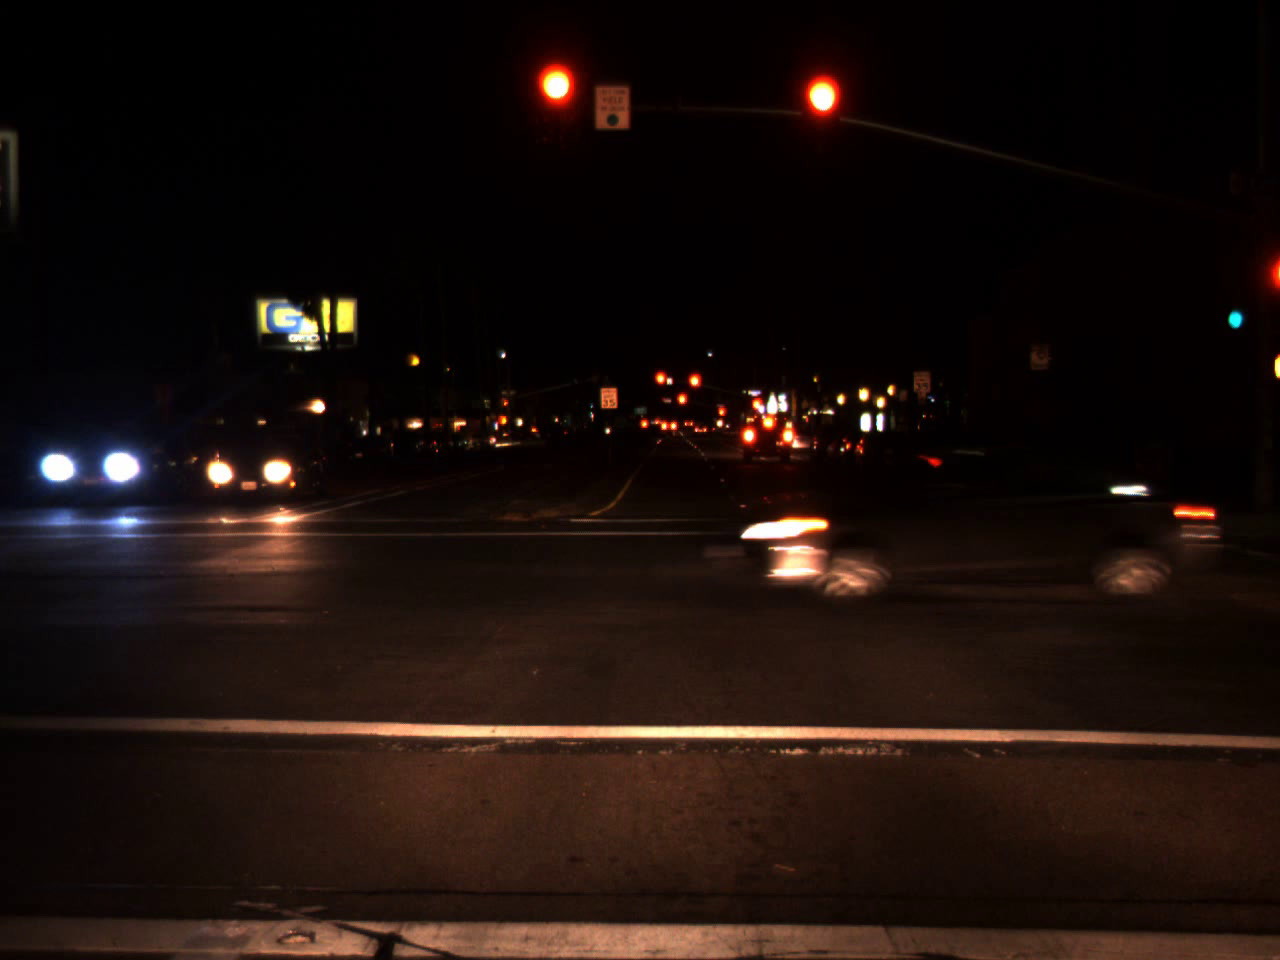stop: (537, 65, 577, 143), (802, 77, 841, 152), (653, 369, 668, 401), (686, 372, 702, 401), (675, 391, 688, 418), (749, 396, 765, 414), (717, 406, 727, 427), (503, 398, 509, 414)
